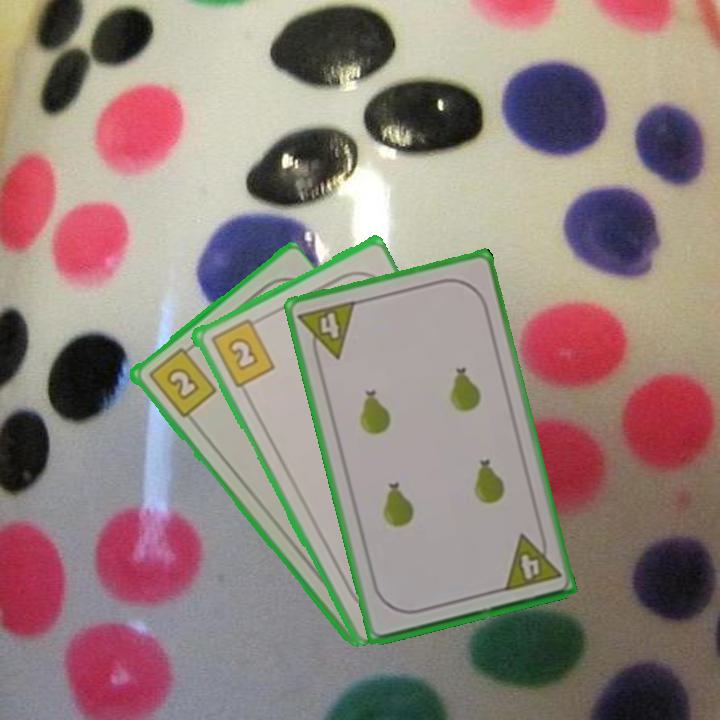2b: (144, 340, 219, 421), (207, 313, 277, 390)
4p: (294, 297, 359, 366), (499, 527, 563, 594)
